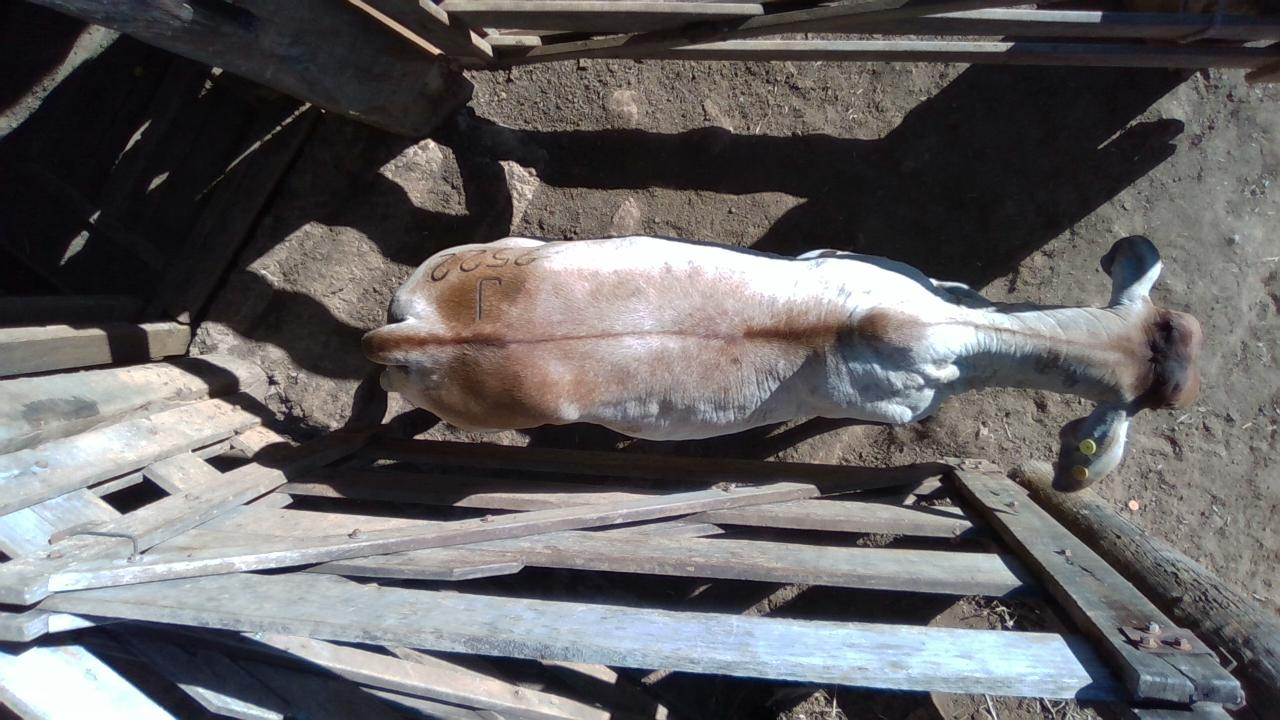cattle: (359, 230, 1203, 493)
